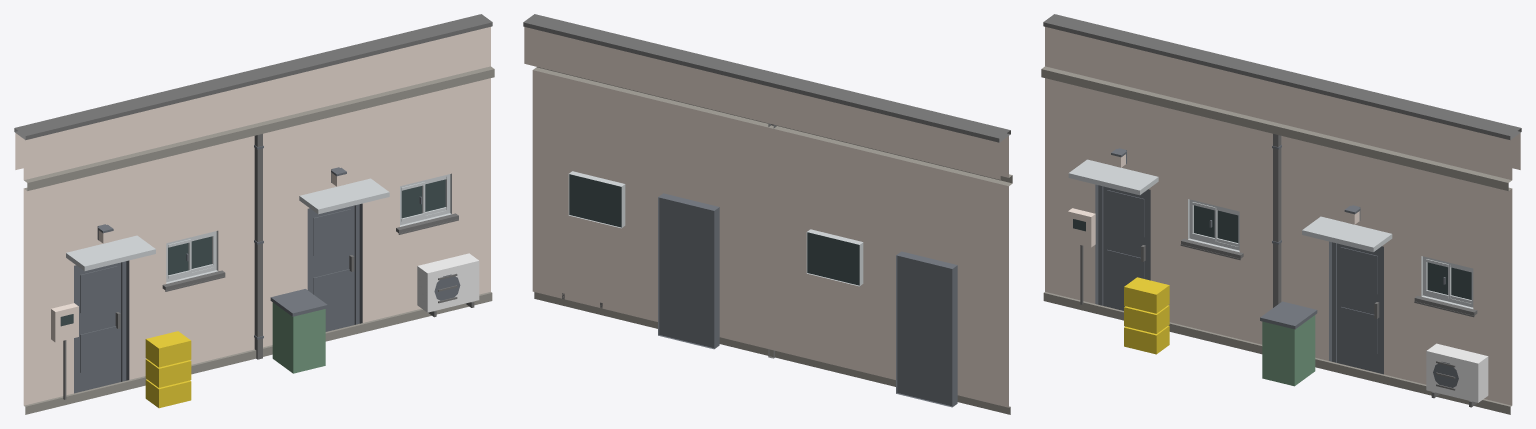
File: base-w3_close.fbx
3 views of the same model, side by side, from view 1: azimuth 30°, elevation 25°; view 2: azimuth 150°, elevation 25°; view 3: azimuth 330°, elevation 25° (orthographic).
Parts seen in each view (by area): view 1: a2003/0/base-w3_close; view 2: a2003/0/base-w3_close; view 3: a2003/0/base-w3_close.
Part boxes in pixels (box(x1,y1,x2,y2)): a2003/0/base-w3_close: box(14, 14, 494, 414); a2003/0/base-w3_close: box(523, 14, 1012, 414); a2003/0/base-w3_close: box(1041, 14, 1521, 414).
Bounding box in the file's own units: 7.2 × 4.11 × 1.
